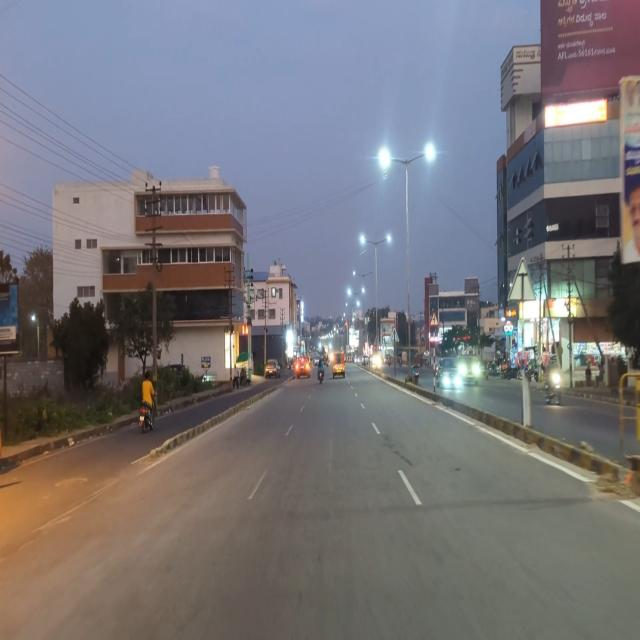bien_cam: (429, 309, 439, 327)
